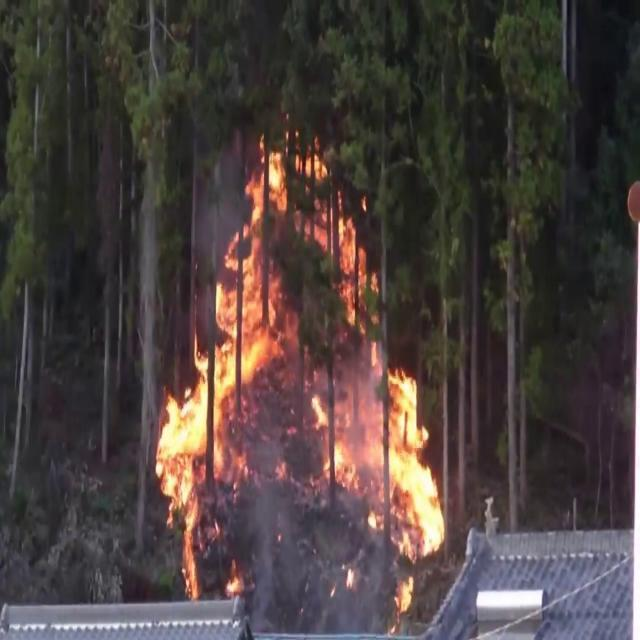Fire: (152, 138, 286, 590), (309, 202, 447, 602)
